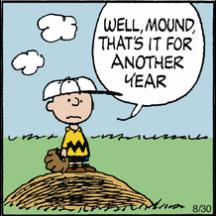charlie: (42, 76, 96, 172)
